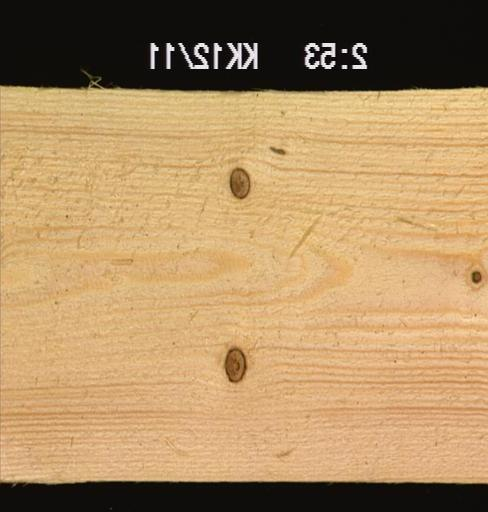dry_knot: (222, 344, 249, 382), (229, 164, 252, 200), (466, 261, 484, 291)
